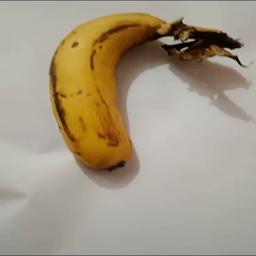Banana Semifresh: (49, 7, 250, 175)
